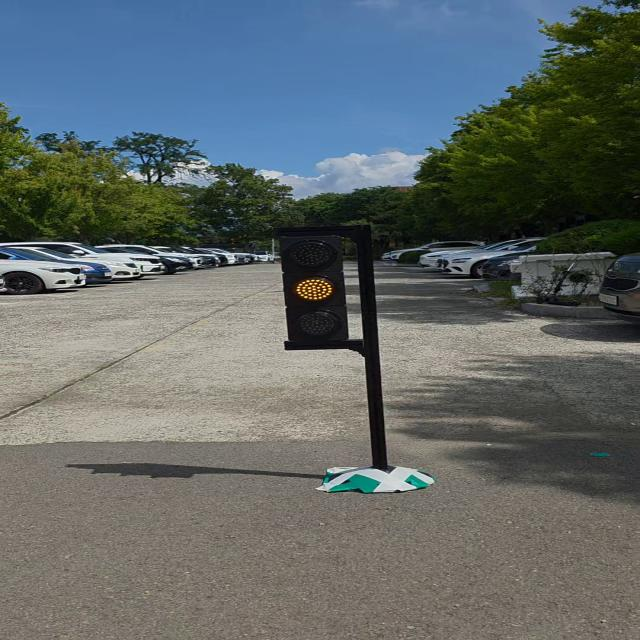yellow: (264, 236, 360, 353)
